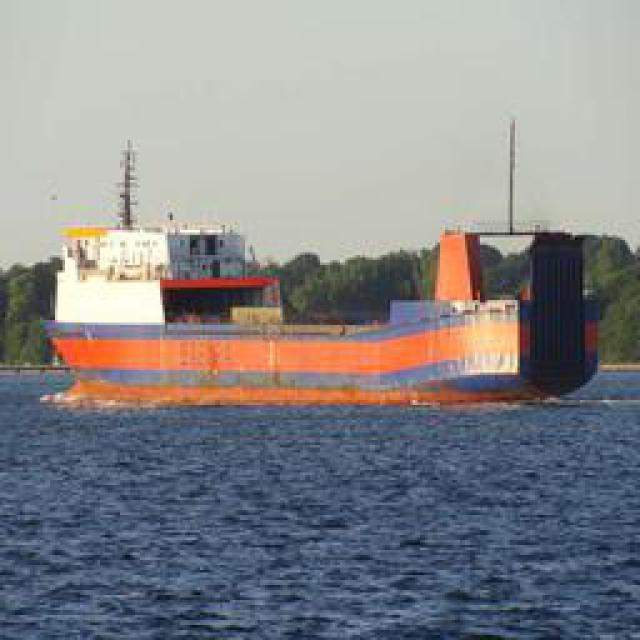Ship: (38, 236, 603, 409)
